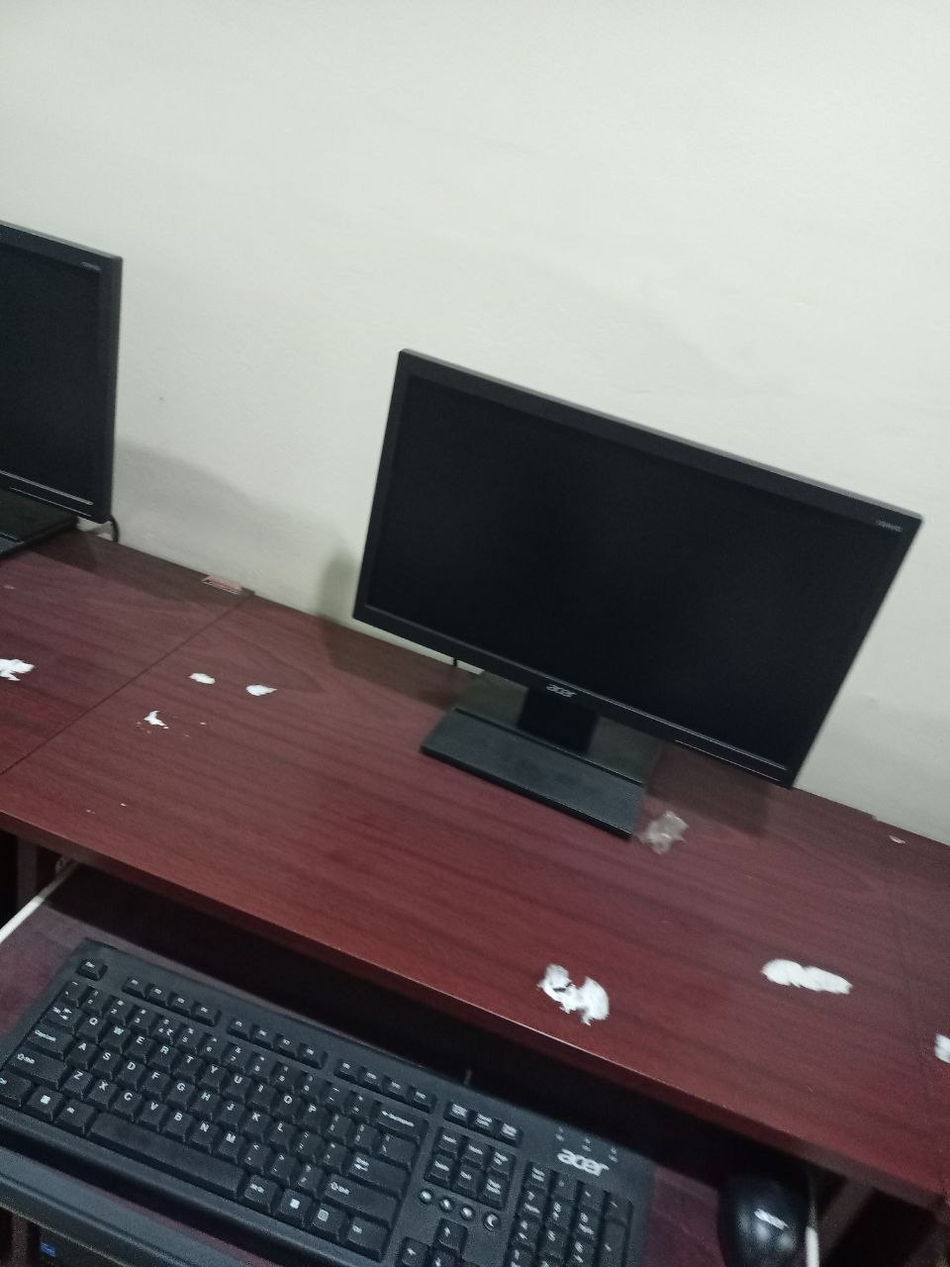computer monitor: (354, 352, 918, 832), (0, 224, 121, 541)
